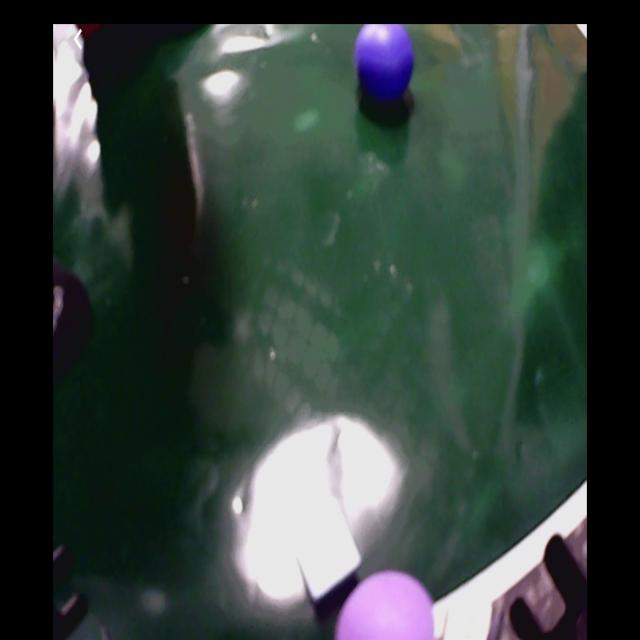ball: (336, 572, 436, 640), (355, 25, 416, 106)
